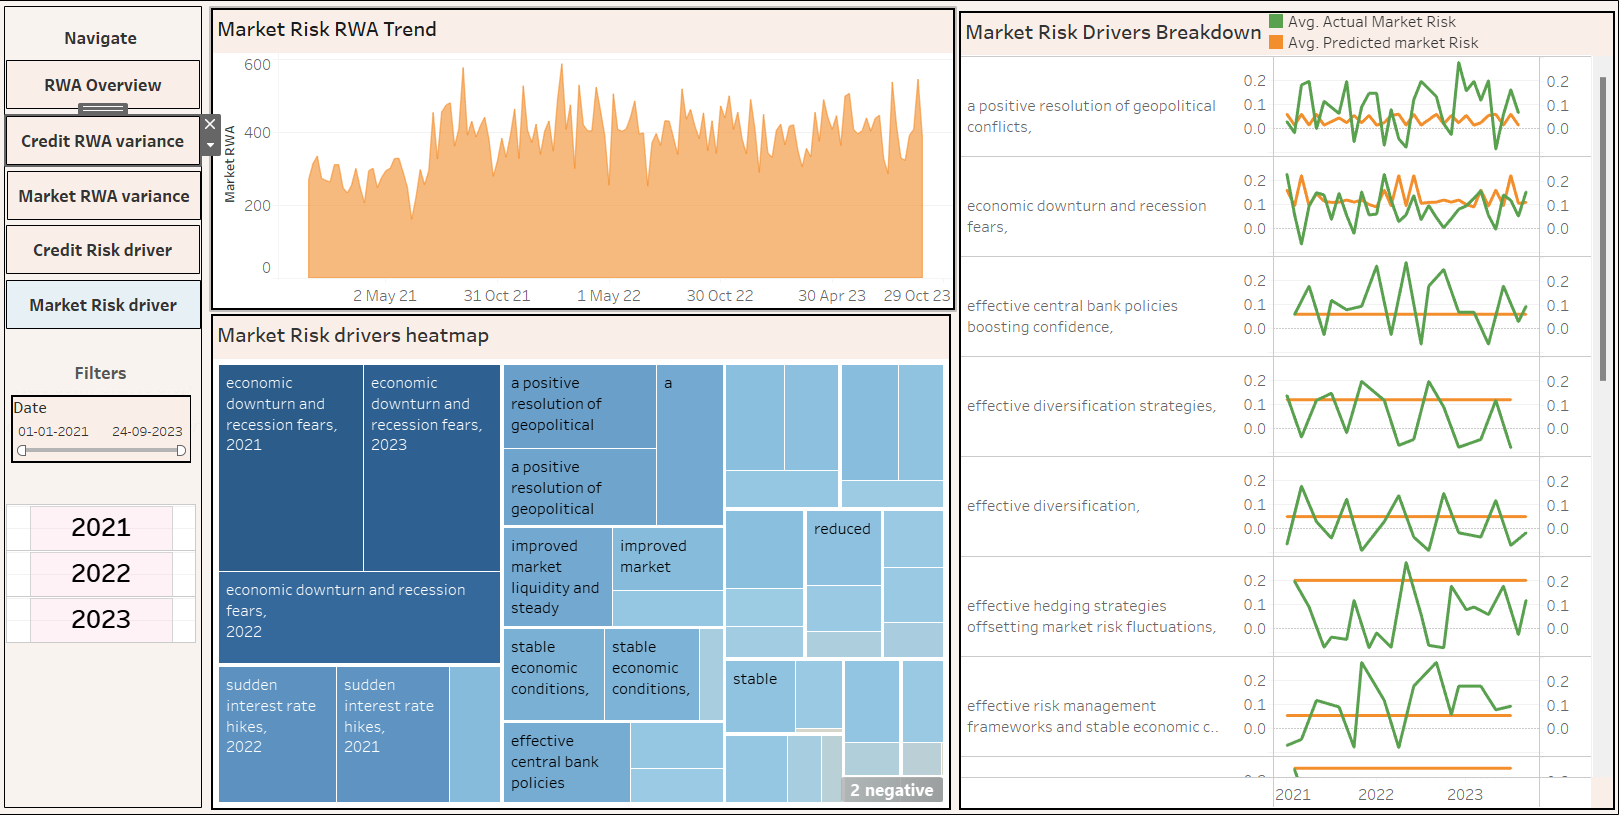

The page's visual inventory and layout, read from the dashboard file:
{"tool":"tableau","page":{"name":"market risk driver","canvas":[1000,1000],"units":"permille","ordinal":4},"visuals":[{"type":"worksheet","title":"Sheet 2","mark":"Area","rows":["market RWA(millions)"],"cols":["date"],"box":[135,19.2,454.5,363.4]},{"type":"legend","title":"Sheet 14","param":"[federated.1azpbkn1w87z051a0ipd91t5uy5k].[:Measure Names]","box":[779.4,22.3,181.8,54]},{"type":"worksheet","title":"Sheet 14","mark":"Automatic","rows":["drivers (Sheet12)","Predicted_market_Risk","actual market risk"],"cols":["date (Sheet12)"],"box":[591.9,22.9,400.7,961.5]},{"type":"text","box":[14.7,28.9,105.7,50.5]},{"type":"dashboard-object","box":[9.8,81.8,118.5,59]},{"type":"dashboard-object","box":[9.8,149.2,118.5,59]},{"type":"dashboard-object","box":[10.4,215.4,118.5,59]},{"type":"dashboard-object","box":[9.8,280.4,118.5,59]},{"type":"dashboard-object","box":[9.8,346.6,119.1,59]},{"type":"worksheet","title":"Sheet 12","mark":"Automatic","box":[135,387.5,452.1,596.9]},{"type":"text","box":[12.8,435.6,109.4,44.5]},{"type":"filter","title":"Sheet 2","param":"[federated.1azpbkn1w87z051a0ipd91t5uy5k].[none:date:qk]","box":[12.7,484.7,110.3,82.2]},{"type":"worksheet","title":"Sheet 15","mark":"Bar","rows":["date","Calculation_119063975733788675"],"box":[9.7,616.2,116.4,166.7]}]}

Visuals, with their boxes on the dashboard's canvas, which has no fixed pixel size, in thousandths of its width and height (x1, y1, x2, y2). These are canvas units, not pixel positions in the 1620x816 screenshot, which may show the page scaled, cropped or inside an application window:
"Sheet 2" worksheet (Area marks): [135, 19, 590, 383]
"Sheet 14" legend: [779, 22, 961, 76]
"Sheet 14" worksheet: [592, 23, 993, 984]
text: [15, 29, 120, 79]
dashboard-object: [10, 82, 128, 141]
dashboard-object: [10, 149, 128, 208]
dashboard-object: [10, 215, 129, 274]
dashboard-object: [10, 280, 128, 339]
dashboard-object: [10, 347, 129, 406]
"Sheet 12" worksheet: [135, 388, 587, 984]
text: [13, 436, 122, 480]
"Sheet 2" filter: [13, 485, 123, 567]
"Sheet 15" worksheet (Bar marks): [10, 616, 126, 783]
